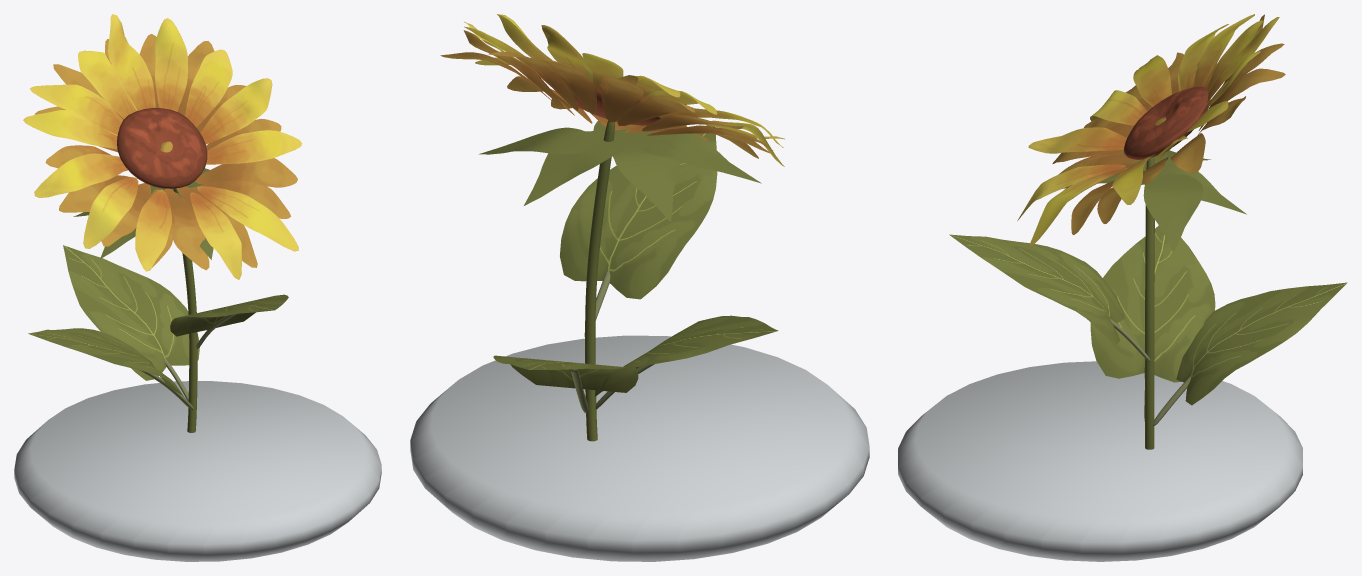
Rendered from sunflower22.glb.
The picture shows the model from 3 angles, left to right: view 1: azimuth 30°, elevation 25°; view 2: azimuth 150°, elevation 25°; view 3: azimuth 270°, elevation 25°; orthographic projection. The views are drawn at different scales.
Parts seen in each view (by area): view 1: Plane.001, stand; view 2: stand, Plane.001; view 3: stand, Plane.001.
Part boxes in pixels (bbox=[...]): Plane.001: bbox=[23, 14, 302, 432]; stand: bbox=[14, 381, 381, 561]; stand: bbox=[410, 335, 869, 561]; Plane.001: bbox=[440, 14, 784, 441]; stand: bbox=[898, 361, 1302, 561]; Plane.001: bbox=[949, 14, 1347, 449].
Size of the model in its own units: 3.79 by 5.26 by 4.21.
21 materials, 19 textured.
